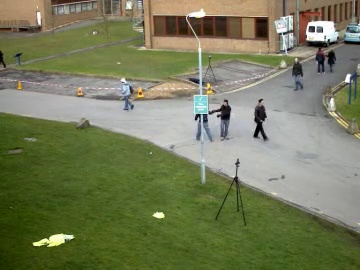person: (251, 99, 268, 142), (251, 98, 267, 141), (119, 79, 134, 110)
